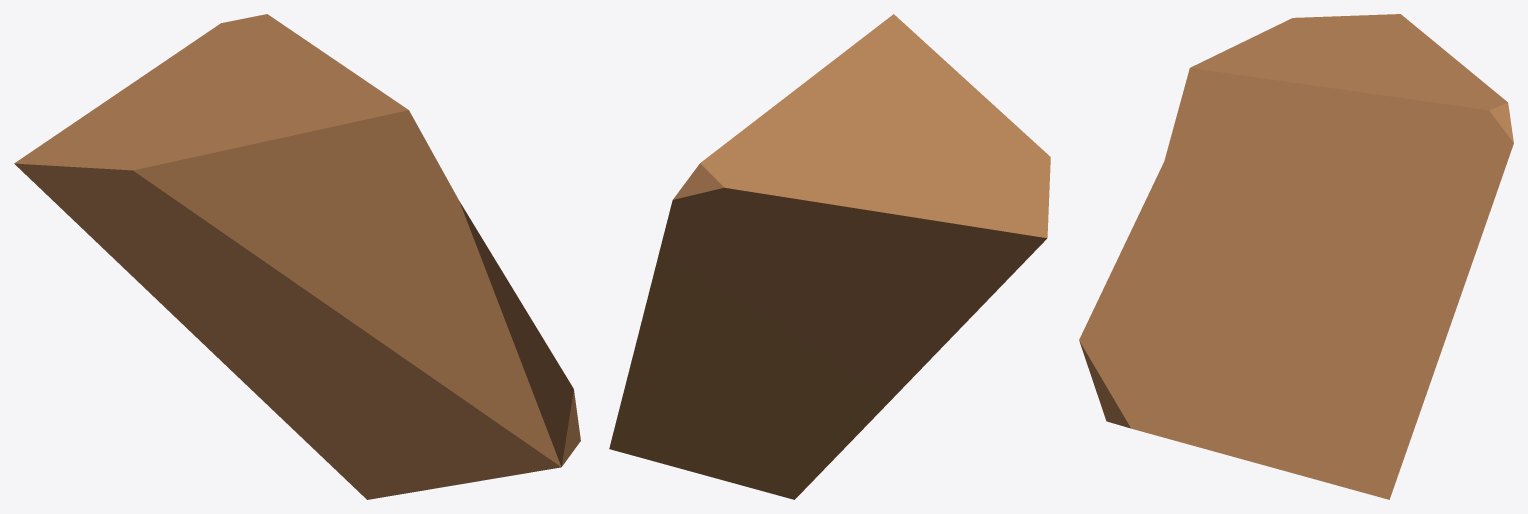
The model's file is asteroid_3_1.glb.
The picture shows the model from 3 angles, left to right: view 1: azimuth 30°, elevation 25°; view 2: azimuth 150°, elevation 25°; view 3: azimuth 270°, elevation 25°; orthographic projection. The views are drawn at different scales.
Parts seen in each view (by area): view 1: Asteriod_cell_3_1; view 2: Asteriod_cell_3_1; view 3: Asteriod_cell_3_1.
Part boxes in pixels (x1=…): Asteriod_cell_3_1: x1=14, y1=14, x2=580, y2=499; Asteriod_cell_3_1: x1=609, y1=14, x2=1050, y2=499; Asteriod_cell_3_1: x1=1079, y1=14, x2=1513, y2=499.
Bounding box in the file's own units: 1.05 × 0.9926 × 0.9854.
